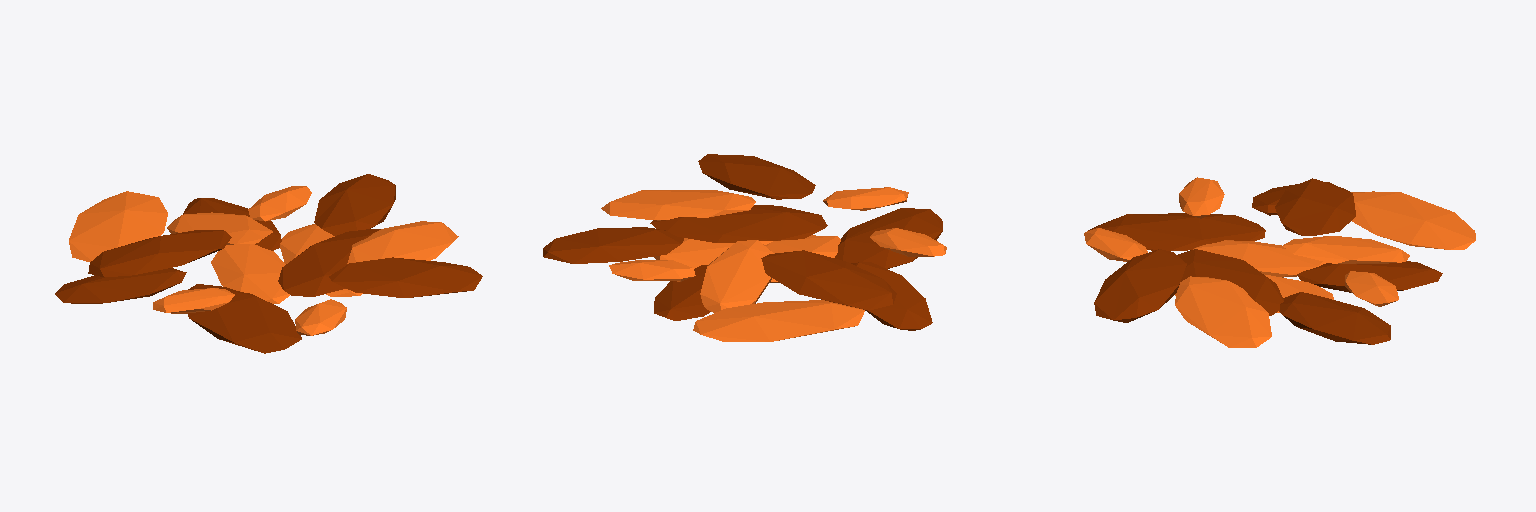
Rendered from PumpkinSeed_reduced.obj.
The picture shows the model from 3 angles: view 1: azimuth 30°, elevation 25°; view 2: azimuth 150°, elevation 25°; view 3: azimuth 270°, elevation 25°; orthographic projection.
Parts seen in each view (by area): view 1: Sphere016, Sphere011, Sphere001, Sphere014, Sphere012, Sphere017, Sphere010, Sphere006, Sphere009, Sphere020, Sphere013, Sphere008 (+3 smaller); view 2: Sphere011, Sphere014, Sphere017, Sphere012, Sphere020, Sphere006, Sphere016, Sphere001, Sphere009, Sphere002, Sphere008, Sphere013 (+3 smaller); view 3: Sphere011, Sphere006, Sphere016, Sphere001, Sphere012, Sphere014, Sphere017, Sphere020, Sphere002, Sphere010, Sphere013, Sphere005 (+3 smaller).
Boxes of the visible parts, x1=… form: Sphere016: x1=329, y1=257, x2=482, y2=297; Sphere011: x1=69, y1=191, x2=167, y2=261; Sphere001: x1=188, y1=284, x2=301, y2=353; Sphere014: x1=88, y1=230, x2=231, y2=276; Sphere012: x1=314, y1=174, x2=395, y2=235; Sphere017: x1=278, y1=229, x2=380, y2=296; Sphere010: x1=211, y1=244, x2=289, y2=303; Sphere006: x1=347, y1=221, x2=458, y2=263; Sphere009: x1=55, y1=268, x2=186, y2=303; Sphere020: x1=167, y1=212, x2=272, y2=244; Sphere013: x1=153, y1=288, x2=234, y2=313; Sphere008: x1=248, y1=186, x2=311, y2=221; Sphere011: x1=693, y1=300, x2=864, y2=341; Sphere014: x1=761, y1=250, x2=896, y2=310; Sphere017: x1=650, y1=205, x2=827, y2=242; Sphere012: x1=543, y1=227, x2=683, y2=263; Sphere020: x1=700, y1=240, x2=773, y2=312; Sphere006: x1=601, y1=190, x2=755, y2=220; Sphere016: x1=698, y1=154, x2=815, y2=199; Sphere001: x1=835, y1=208, x2=942, y2=268; Sphere009: x1=851, y1=262, x2=932, y2=330; Sphere002: x1=654, y1=265, x2=710, y2=320; Sphere008: x1=609, y1=260, x2=695, y2=281; Sphere013: x1=870, y1=228, x2=946, y2=256; Sphere011: x1=1351, y1=191, x2=1475, y2=249; Sphere006: x1=1175, y1=276, x2=1271, y2=347; Sphere016: x1=1094, y1=249, x2=1186, y2=322; Sphere001: x1=1088, y1=213, x2=1265, y2=250; Sphere012: x1=1279, y1=292, x2=1390, y2=344; Sphere014: x1=1275, y1=178, x2=1355, y2=235; Sphere017: x1=1177, y1=249, x2=1283, y2=315; Sphere020: x1=1283, y1=236, x2=1409, y2=263; Sphere002: x1=1297, y1=261, x2=1442, y2=292; Sphere010: x1=1193, y1=240, x2=1326, y2=277; Sphere013: x1=1179, y1=177, x2=1224, y2=218; Sphere005: x1=1084, y1=228, x2=1147, y2=261.
Size of the model in its own units: 65.19 by 5.8 by 61.95.